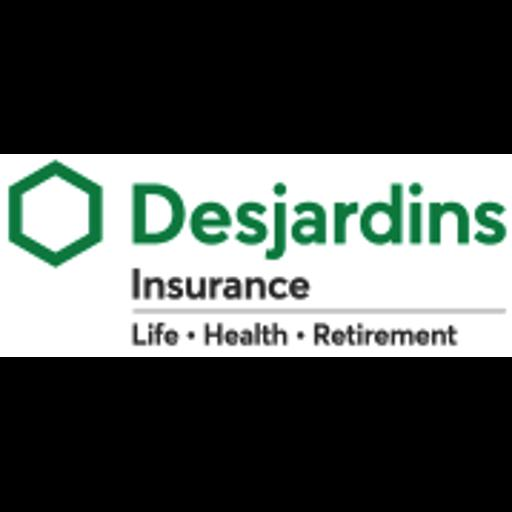Desjardins: (0, 154, 512, 357)
